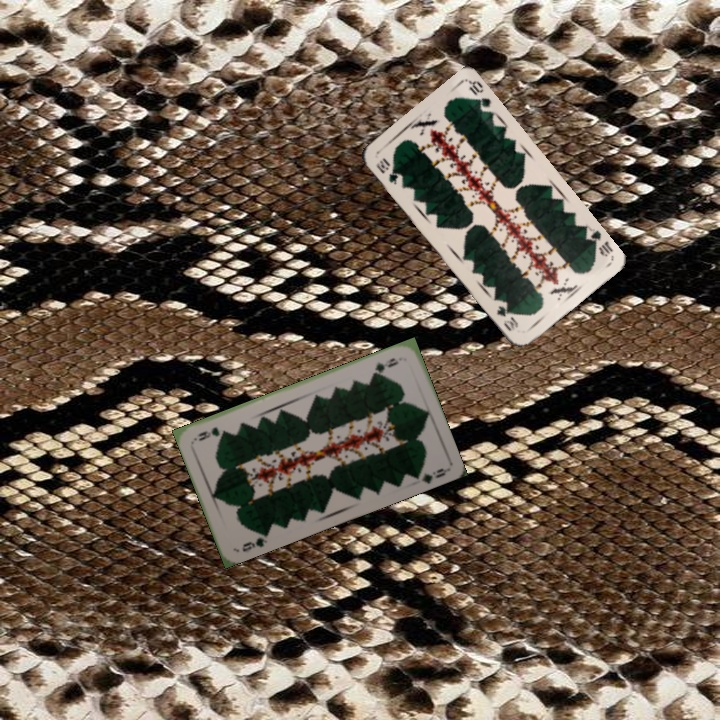G10: (581, 224, 616, 260), (372, 154, 401, 187)
G9: (369, 354, 401, 377), (238, 533, 270, 554)
